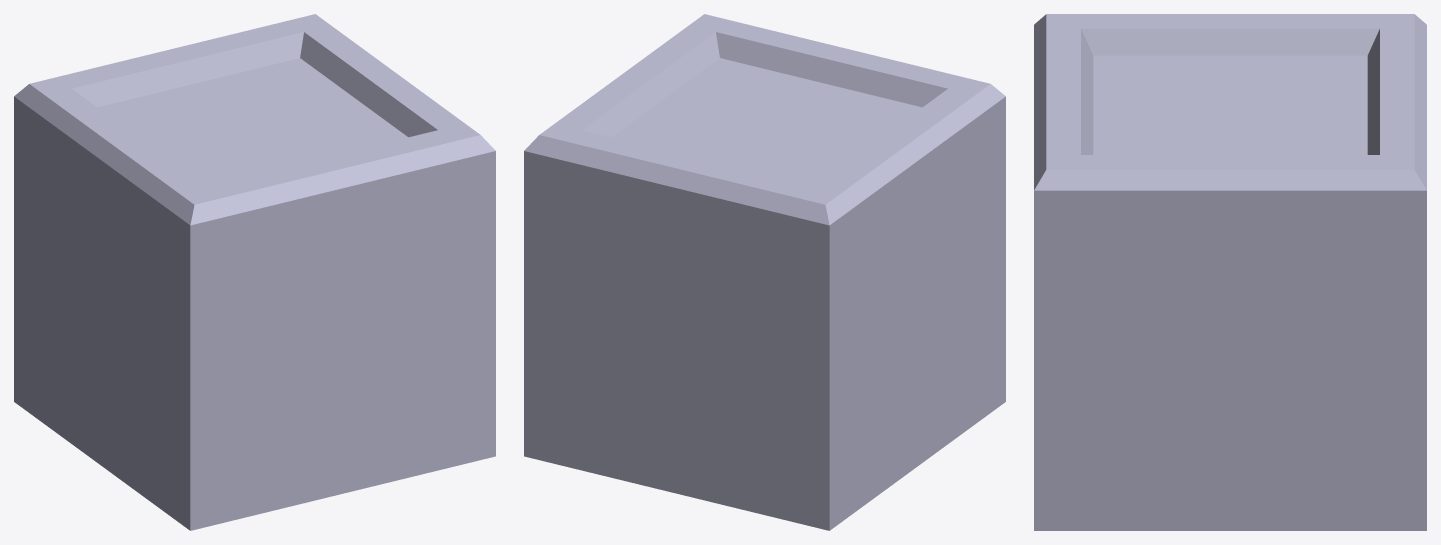
3 views of the same model, side by side, from view 1: azimuth 30°, elevation 25°; view 2: azimuth 150°, elevation 25°; view 3: azimuth 270°, elevation 25° (orthographic). The views are drawn at different scales.
Visible parts, largest first — view 1: box; view 2: box; view 3: box.
Part boxes in pixels (x1,y1,x2,y2): box: (14, 14, 495, 530); box: (524, 14, 1005, 530); box: (1034, 14, 1426, 530).
Size of the model in its own units: 0.9 by 0.9 by 0.9.
